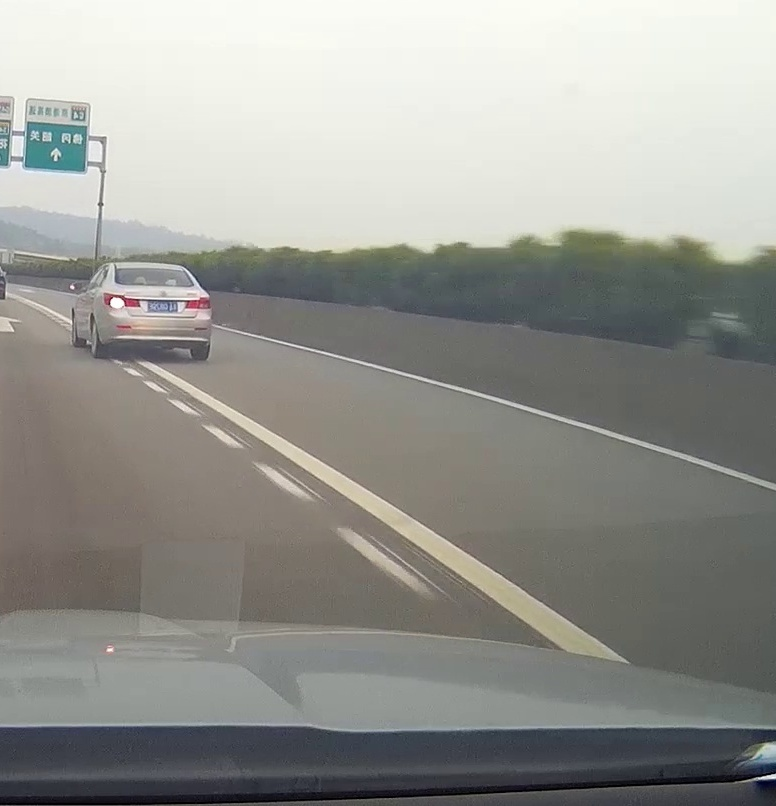L_light: (103, 293, 140, 309)
R_light: (184, 296, 211, 309)
T_light: (147, 267, 159, 271)
day-left: (100, 262, 211, 360)
